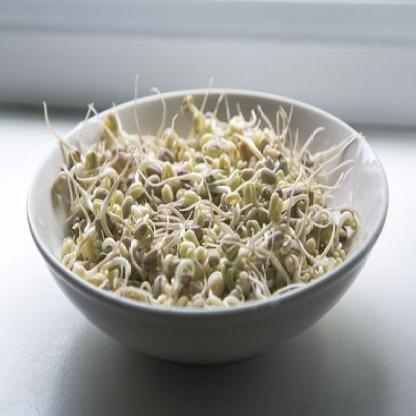bean sprouts: (83, 124, 337, 278)
